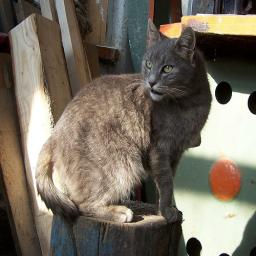catnose: (147, 79, 158, 89)
